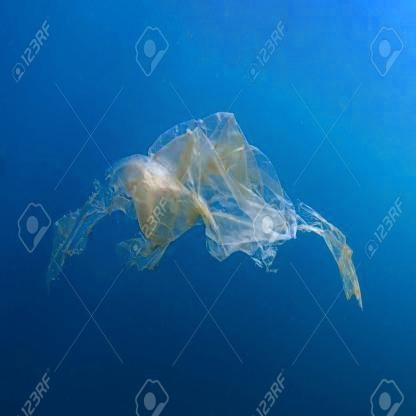pbag: (35, 103, 366, 316)
